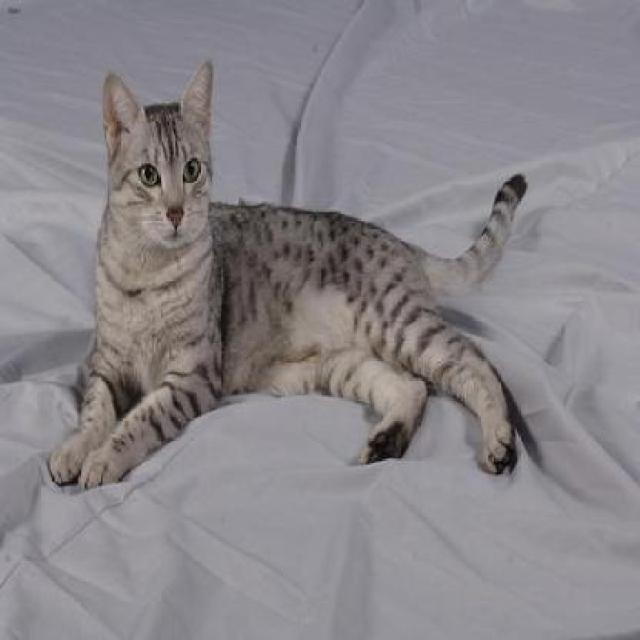cat: (48, 62, 527, 489)
